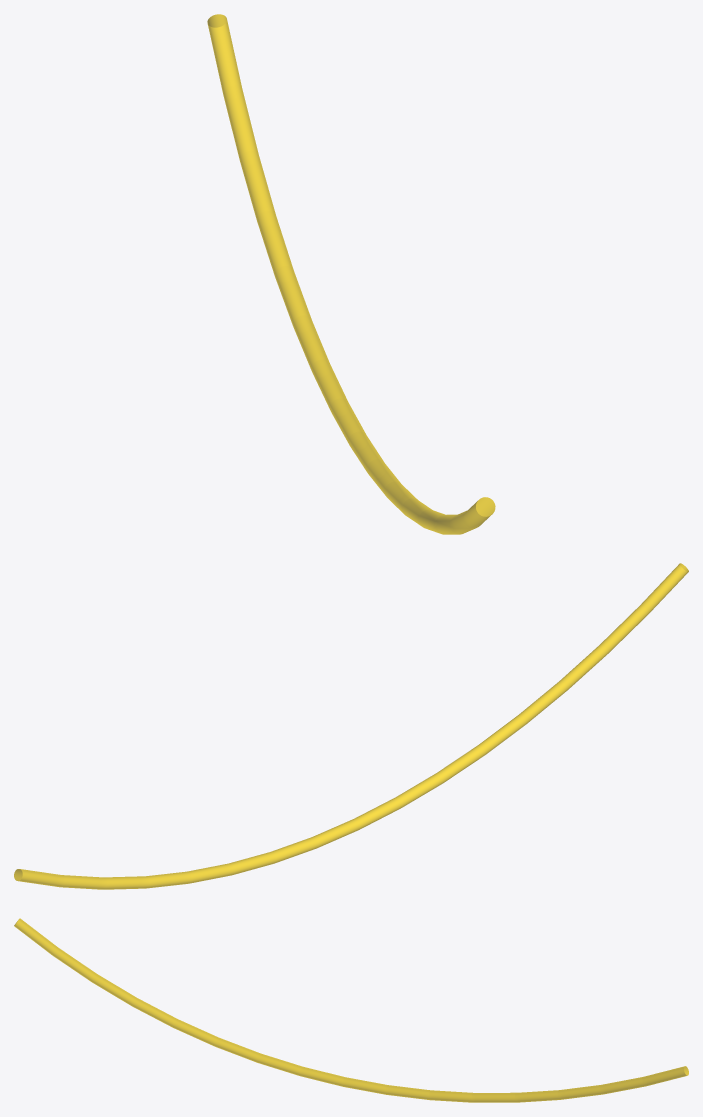
The model's file is Event_27938768_track_12.fbx.
3 views of the same model, one above another, from view 1: azimuth 30°, elevation 25°; view 2: azimuth 150°, elevation 25°; view 3: azimuth 270°, elevation 25° (orthographic). The views are drawn at different scales.
Visible parts, largest first — view 1: Model; view 2: Model; view 3: Model.
Boxes of the visible parts, left/top/right/bottom form: Model: left=207, top=14, right=495, bottom=534; Model: left=14, top=563, right=688, bottom=889; Model: left=14, top=918, right=688, bottom=1102.
Bounding box in the file's own units: 0.9678 × 0.538 × 2.71.
